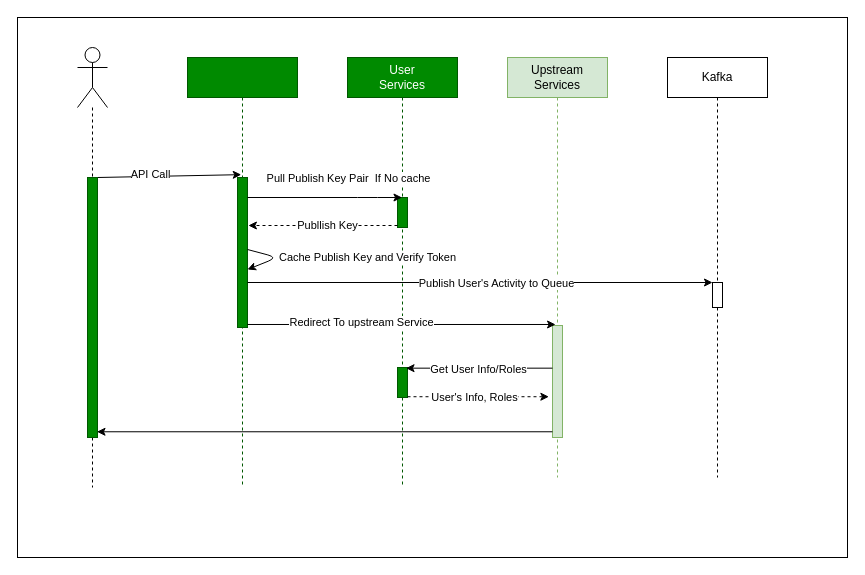
Some shapes in this 865 by 575 pixel diagram are drawn without their labels. Each missing label, with the box of its shape:
API Gateway: (186, 56, 298, 488)
Users: (76, 46, 108, 108)
